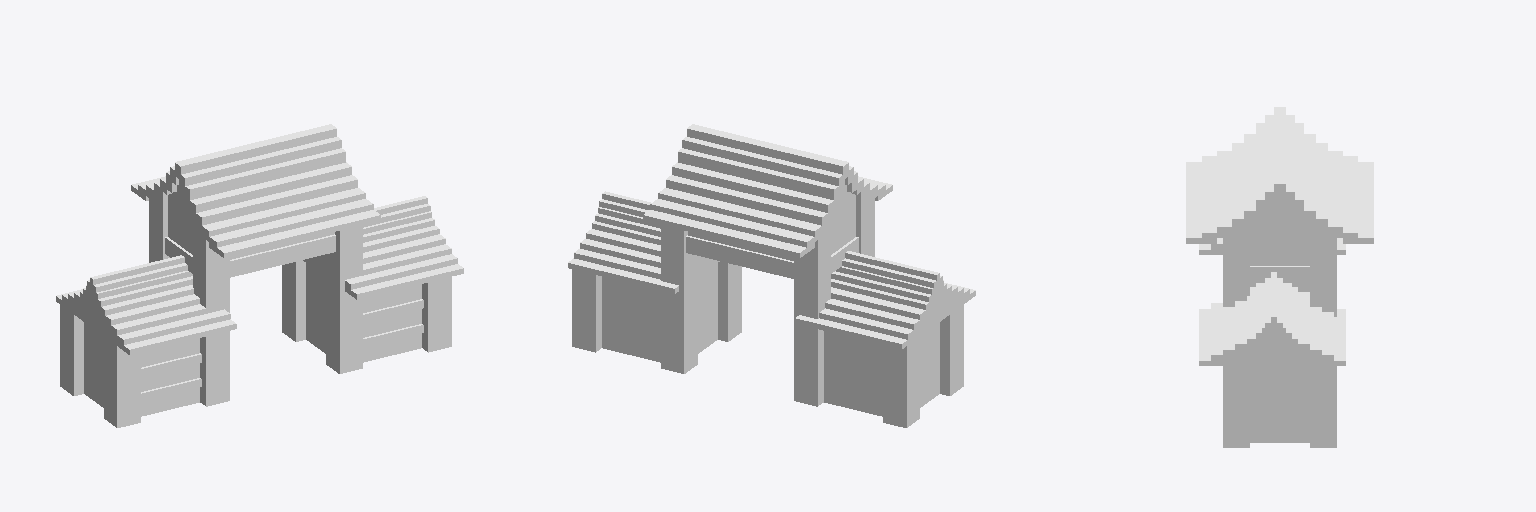
The model's file is sekisyo-0.obj.
The picture shows the model from 3 angles: view 1: azimuth 30°, elevation 25°; view 2: azimuth 150°, elevation 25°; view 3: azimuth 270°, elevation 25°; orthographic projection.
Parts seen in each view (by area): view 1: object 1; view 2: object 1; view 3: object 1.
Part boxes in pixels (left/top/right/bottom): object 1: left=56, top=124, right=463, bottom=427; object 1: left=568, top=124, right=975, bottom=427; object 1: left=1186, top=107, right=1373, bottom=447.
Size of the model in its own units: 12.8 by 8.1 by 6.2.